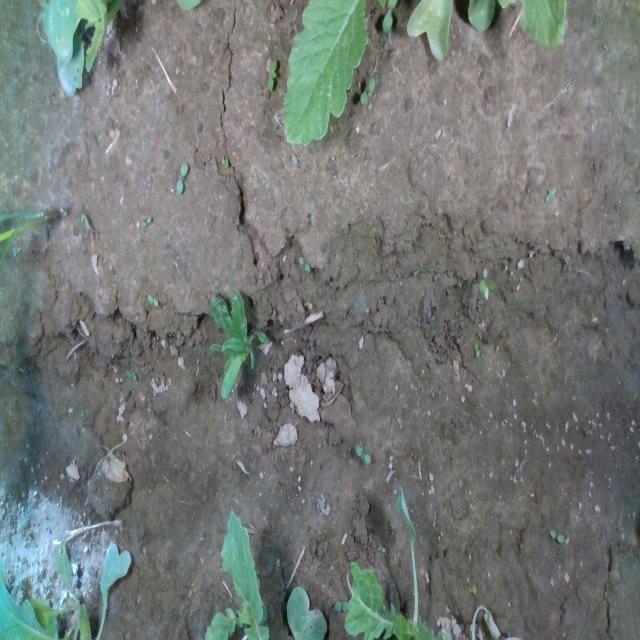weed: (478, 265, 496, 299), (358, 75, 375, 105), (174, 160, 188, 195), (266, 57, 278, 91), (355, 442, 371, 465), (548, 526, 566, 544), (298, 254, 310, 274), (544, 183, 556, 203), (124, 365, 136, 383), (146, 292, 158, 308), (218, 151, 228, 170), (140, 216, 152, 228), (467, 582, 477, 596), (473, 341, 480, 358)
